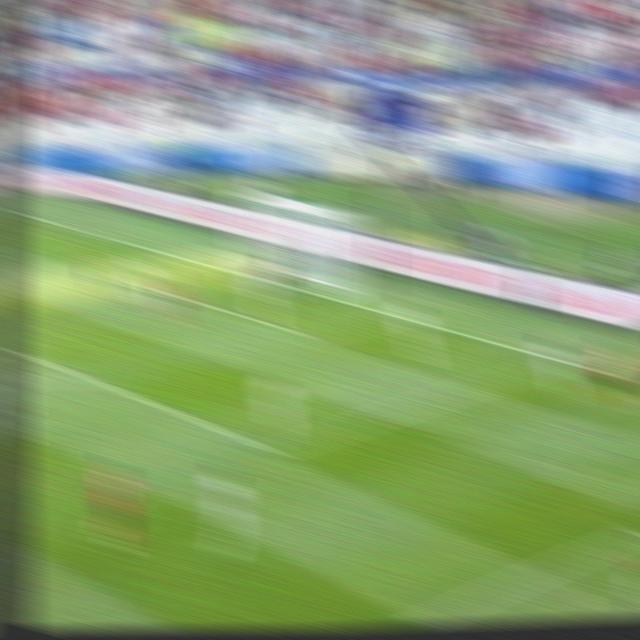bigarea_bottom_inner: (253, 433, 294, 467)
bigarea_top_outter: (67, 218, 101, 242)
bottom_arc_area_intersection: (70, 364, 109, 394)
smallarea_bottom_inner: (293, 322, 329, 350)
smallarea_bottom_outter: (374, 299, 411, 328)
smallarea_top_inner: (93, 262, 128, 287)
smallarea_top_outter: (167, 247, 203, 270)
